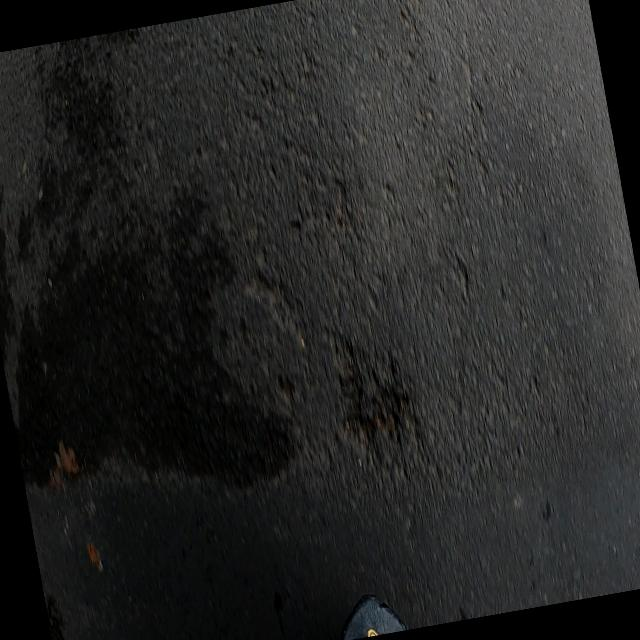Lubang: (328, 331, 409, 447), (243, 268, 300, 347)
